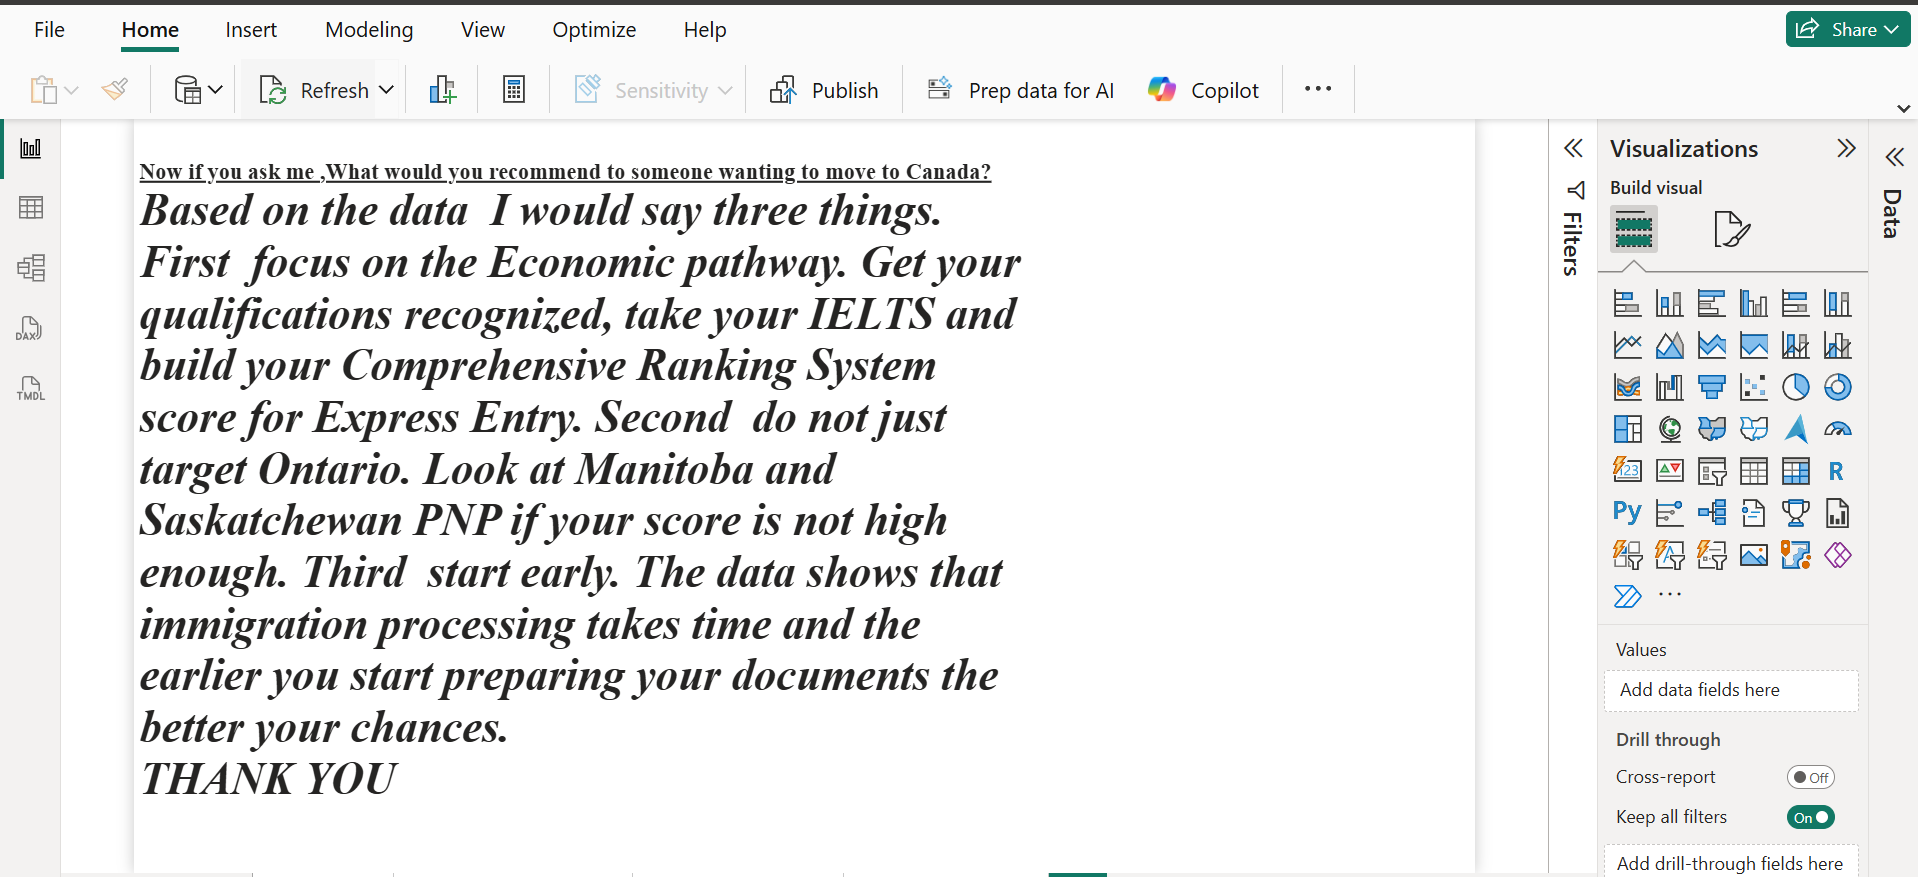

This screenshot's page, from the dashboard's own definition file:
{"tool":"powerbi","page":{"name":"Recommendation","canvas":[1280,720],"ordinal":3},"visuals":[{"type":"textbox","box":[0,32.3,871.6,640.1],"z":0}]}

Visuals, with their boxes on the page's 1280x720 design canvas (x1, y1, x2, y2). These are canvas units, not pixel positions in the 1918x877 screenshot, which may show the page scaled, cropped or inside an application window:
textbox: 0,32,872,672
